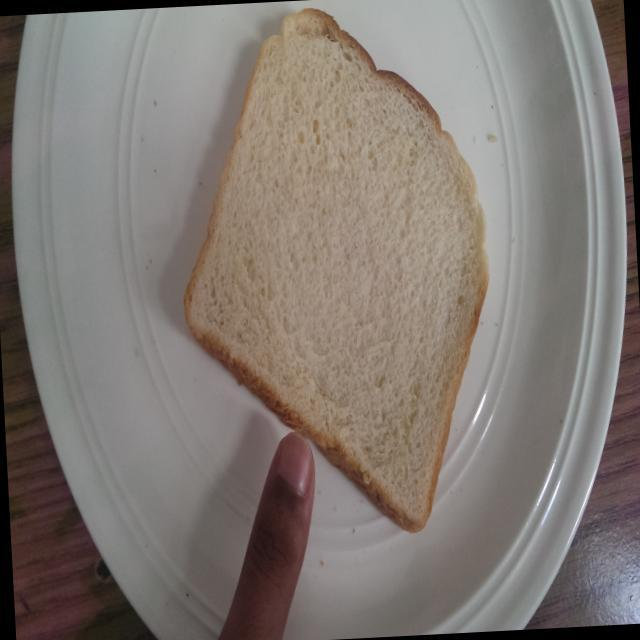Bread: (165, 0, 508, 554)
Finger: (234, 430, 330, 625)
